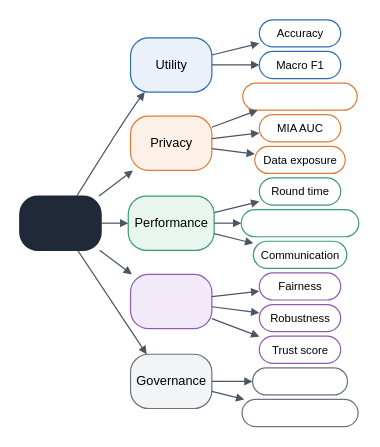
The diagram is 380 pixels wide and 447 high, and some of its shapes have lost their labels. Here are the shapes that lost their labels. From the top down, the centre of each, then its label:
point 299,96: Epsilon (delta 1e-5)
point 60,222: Evaluation
point 299,222: Latency, throughput
point 170,301: Trust
point 299,381: Policy coverage
point 299,412: Audit completeness
